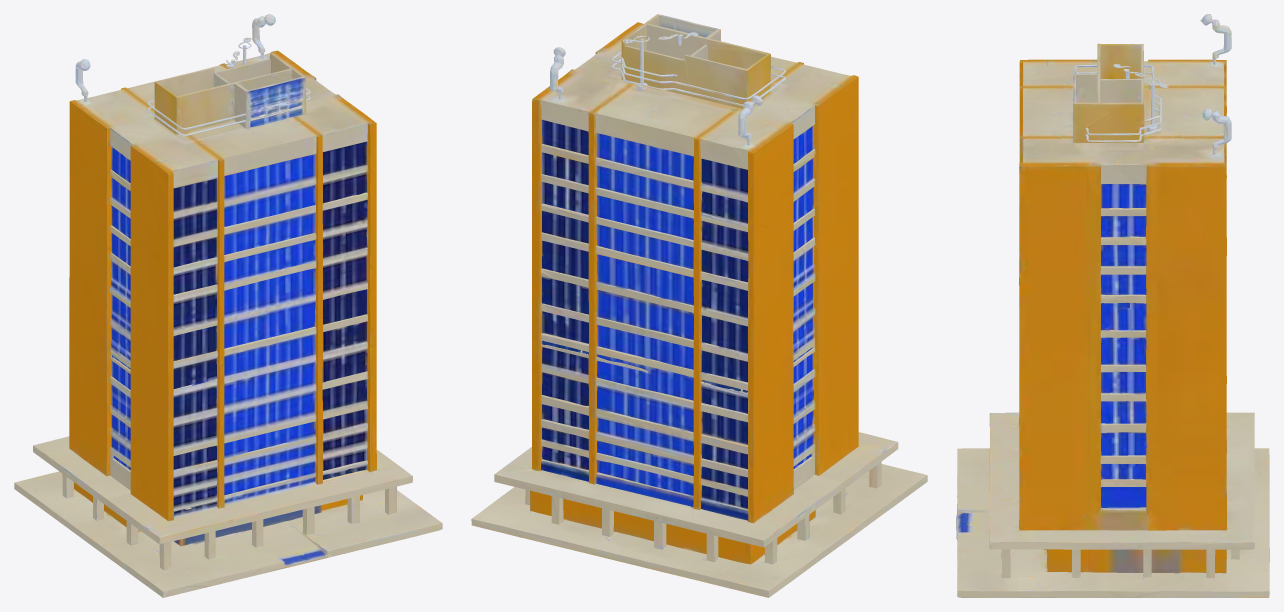
File: tower.glb
The picture shows the model from 3 angles, left to right: view 1: azimuth 30°, elevation 25°; view 2: azimuth 150°, elevation 25°; view 3: azimuth 270°, elevation 25°; orthographic projection. The views are drawn at different scales.
Parts seen in each view (by area): view 1: geometry_0; view 2: geometry_0; view 3: geometry_0.
Part boxes in pixels (x1=…): geometry_0: x1=14, y1=14, x2=442, y2=597; geometry_0: x1=471, y1=14, x2=927, y2=597; geometry_0: x1=956, y1=14, x2=1269, y2=597.
Size of the model in its own units: 0.6632 by 1 by 0.6145.
1 material, 1 textured.
